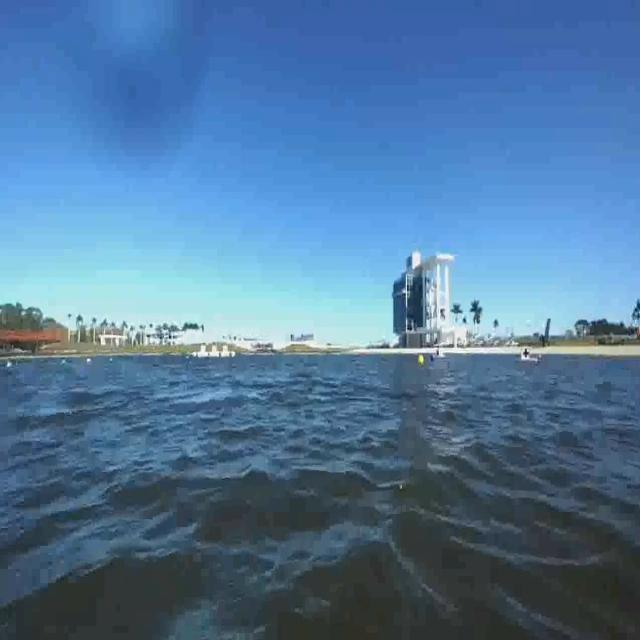yellow-buoy: (418, 353, 426, 367)
